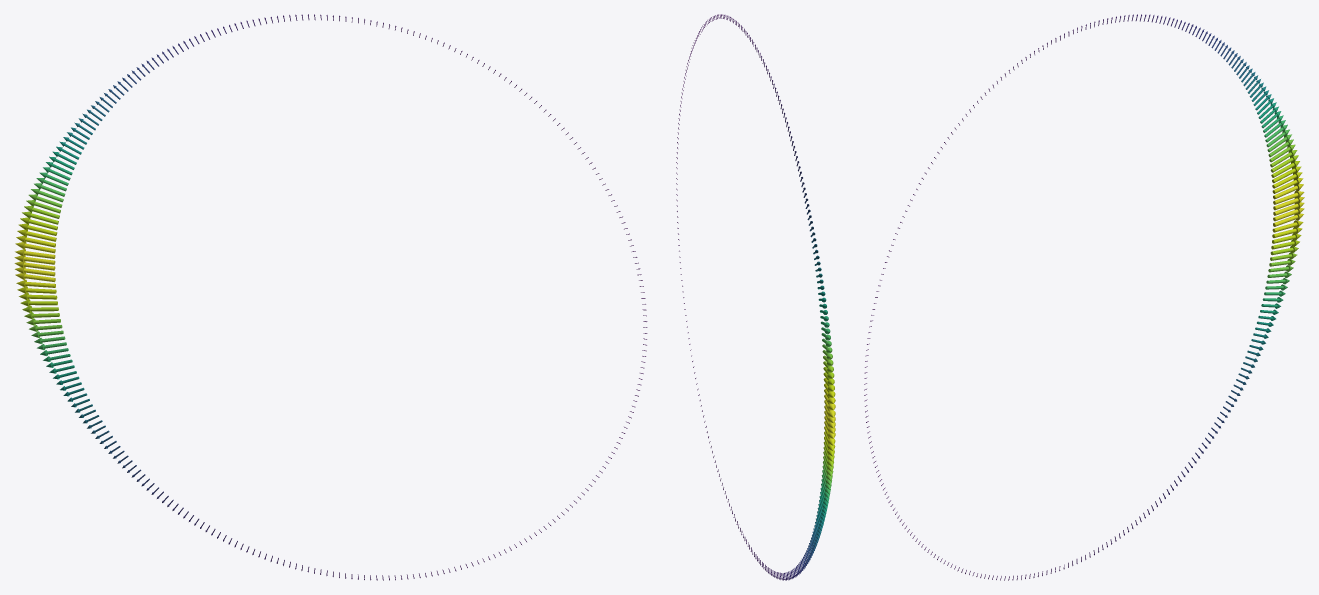
File: coil_1_forces.gltf
3 views of the same model, side by side, from view 1: azimuth 30°, elevation 25°; view 2: azimuth 150°, elevation 25°; view 3: azimuth 270°, elevation 25° (orthographic). The views are drawn at different scales.
Visible parts, largest first — view 1: Renderer Node; view 2: Renderer Node; view 3: Renderer Node.
Part boxes in pixels (x1,y1,x2,y2): Renderer Node: (14,14,647,580); Renderer Node: (676,14,835,580); Renderer Node: (864,14,1304,580).
Size of the model in its own units: 0.4587 by 0.6126 by 0.4554.
1 material, 1 textured.
